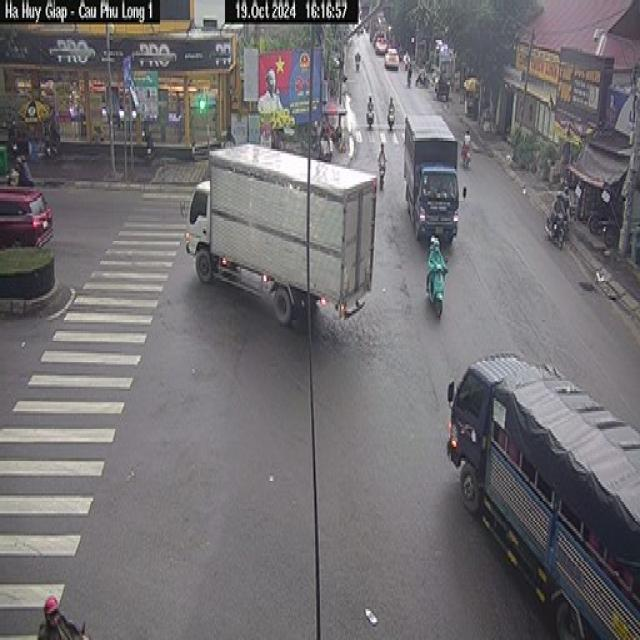car: (3, 169, 62, 262)
motorcycle: (542, 208, 573, 246), (424, 266, 448, 310), (141, 132, 163, 166), (372, 166, 396, 192), (44, 134, 64, 160), (363, 104, 379, 132), (459, 144, 476, 166), (386, 109, 400, 132), (353, 60, 367, 75)
person: (421, 236, 444, 270), (556, 182, 570, 212), (461, 128, 477, 152), (15, 153, 30, 177), (363, 94, 382, 110), (372, 144, 389, 160), (388, 94, 399, 112), (356, 51, 366, 62)
truck: (437, 330, 640, 630), (186, 136, 383, 331), (402, 106, 462, 242)
